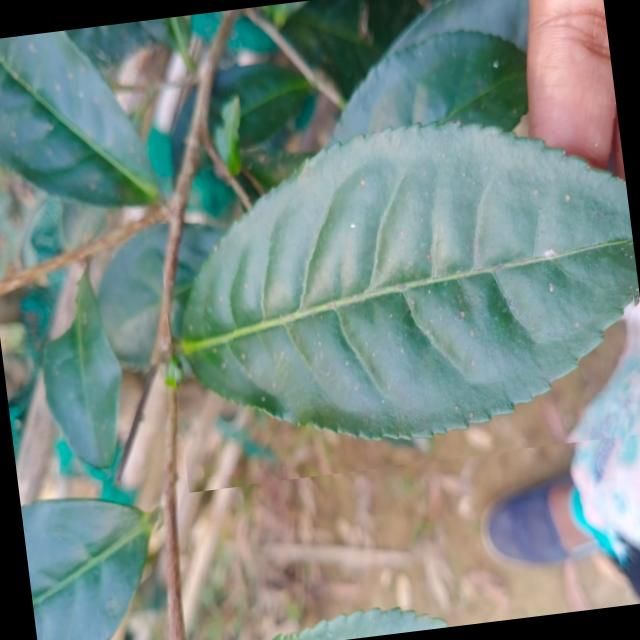Category D 7+ days, Not for Tea: (148, 102, 640, 491)
